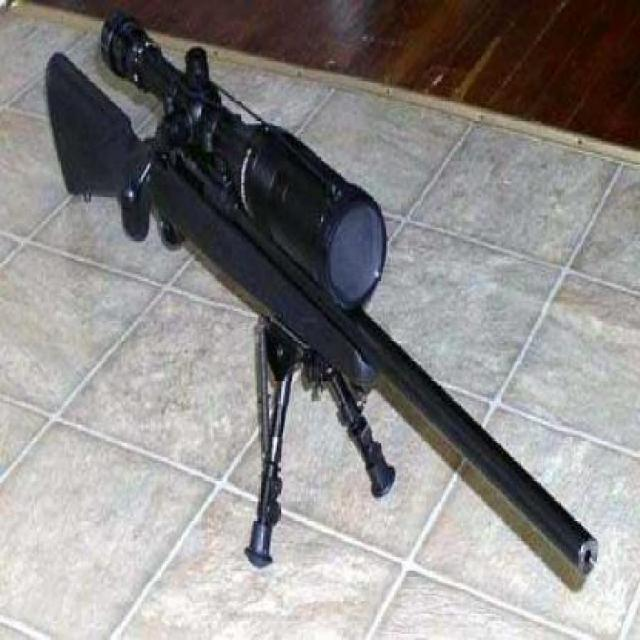weapon: (43, 13, 602, 604)
